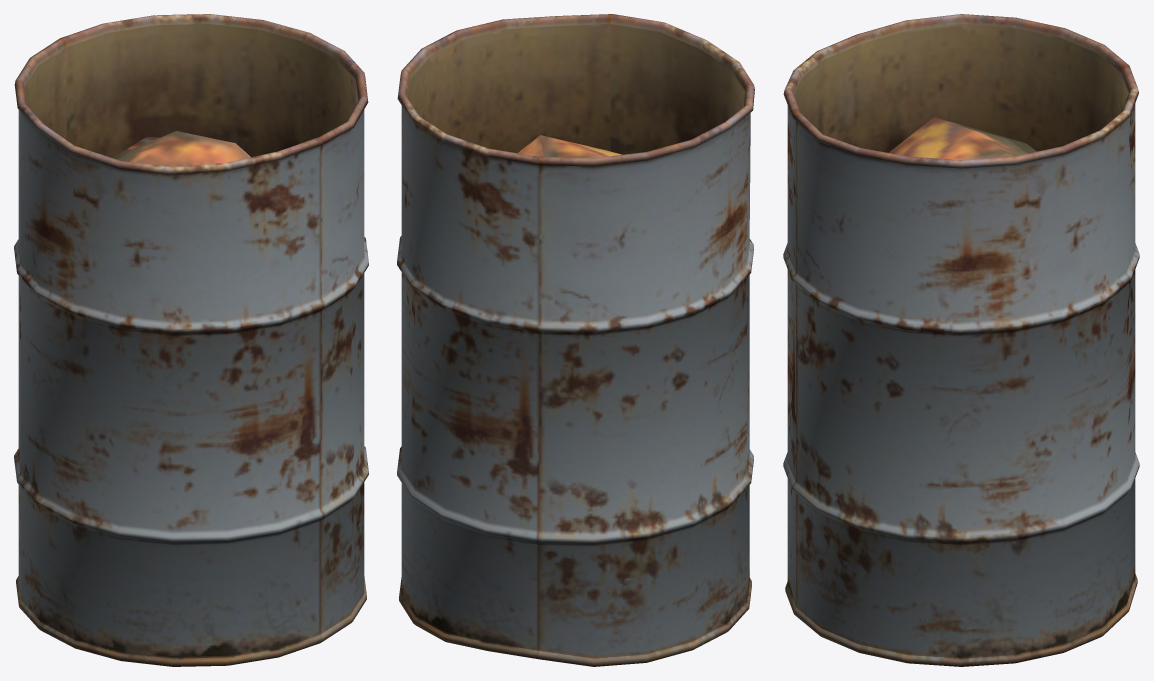
File: barrel_fire.glb
3 views of the same model, side by side, from view 1: azimuth 30°, elevation 25°; view 2: azimuth 150°, elevation 25°; view 3: azimuth 270°, elevation 25° (orthographic).
Visible parts, largest first — view 1: barrel_fire; view 2: barrel_fire; view 3: barrel_fire.
Part boxes in pixels (x1=…): barrel_fire: x1=14, y1=14, x2=368, y2=666; barrel_fire: x1=397, y1=14, x2=754, y2=666; barrel_fire: x1=783, y1=14, x2=1139, y2=666.
Size of the model in its own units: 0.5457 by 0.8557 by 0.5457.
1 material, 1 textured.
